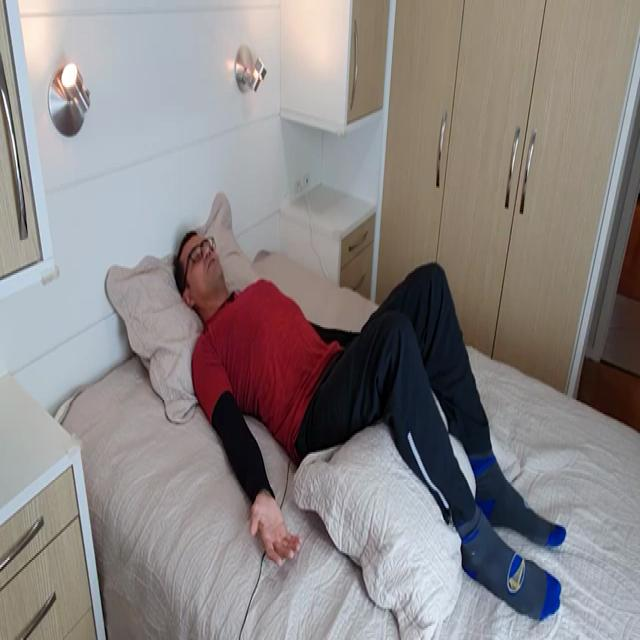deitado: (174, 235, 567, 623)
